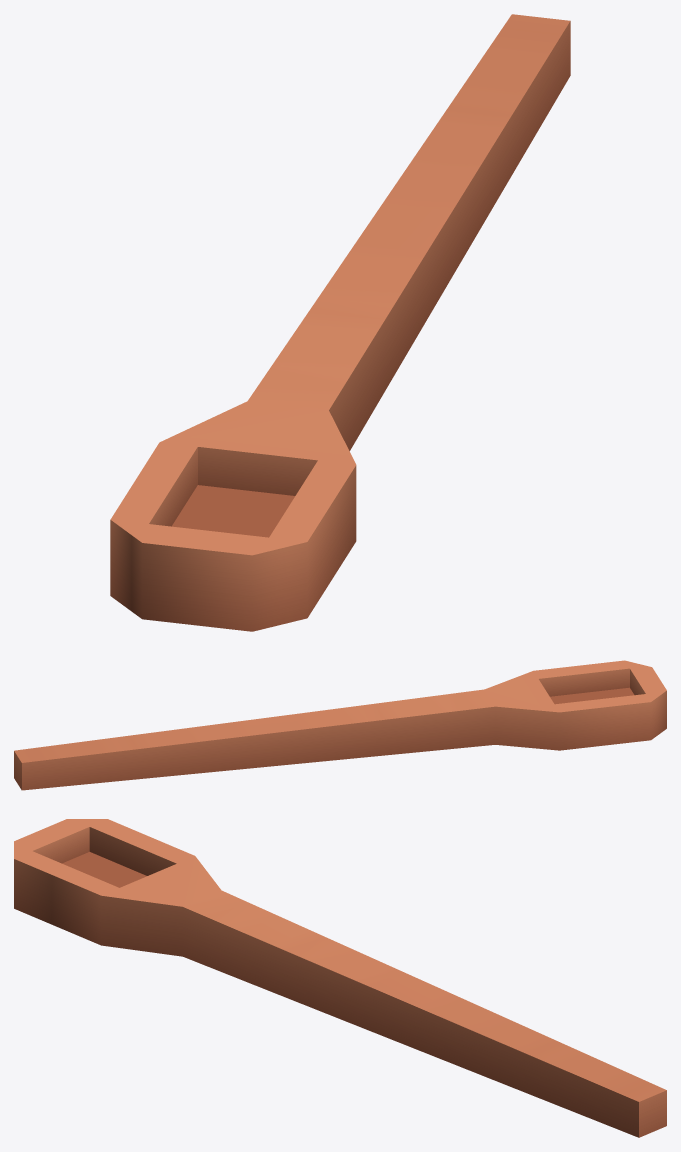
The model's file is catapult_lev2.glb.
3 renders of one model, top to bottom at view 1: azimuth 30°, elevation 25°; view 2: azimuth 150°, elevation 25°; view 3: azimuth 270°, elevation 25°, orthographic. The views are drawn at different scales.
Visible parts, largest first — view 1: catapult_lev2; view 2: catapult_lev2; view 3: catapult_lev2.
Boxes of the visible parts, <box> form: catapult_lev2: <box>110,14,570,631</box>; catapult_lev2: <box>14,660,666,790</box>; catapult_lev2: <box>14,819,666,1137</box>.
Size of the model in its own units: 1.07 by 0.0901 by 1.07.
1 material, 1 textured.
